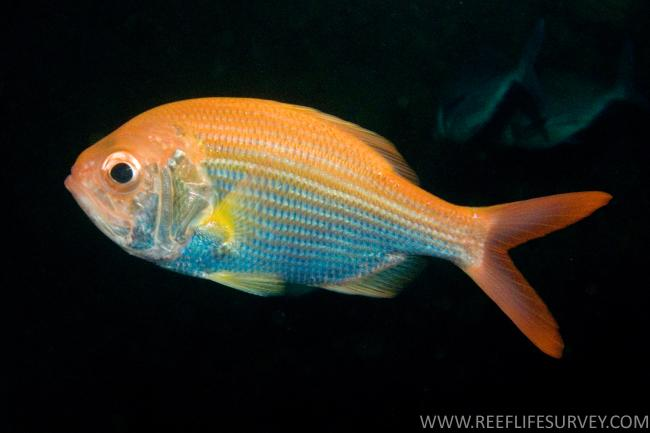fish: (66, 97, 611, 358)
